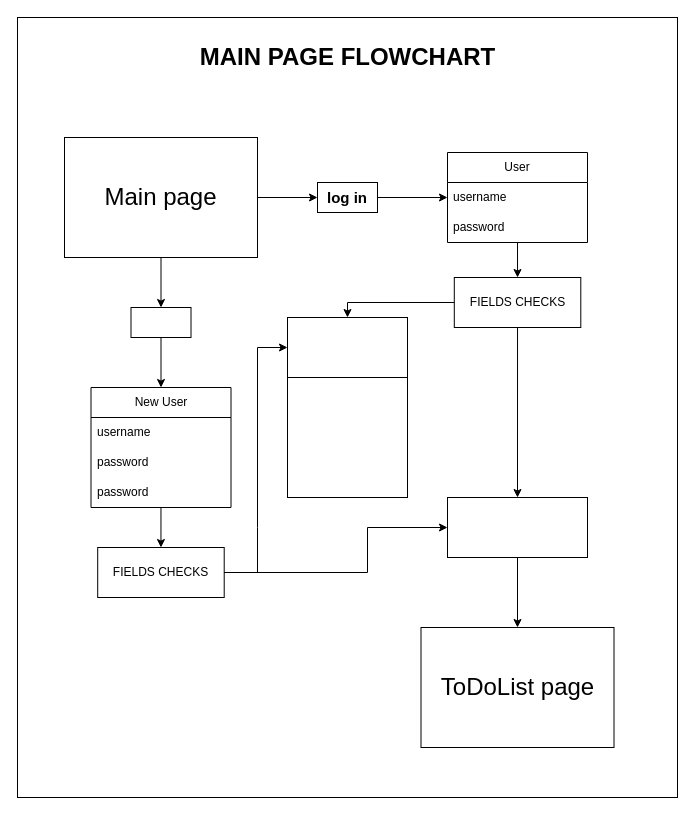
The diagram is 695 pixels wide and 815 high, and some of its shapes have lost their labels. Here are the shapes that lost their labels. From the top down, the centre of each, then its label:
At point (160, 322): "sign up".
At point (347, 347): "ERROR CASE".
At point (347, 437): "User doesn't exist User already exist".
At point (517, 527): "SUCCEED CASE".
